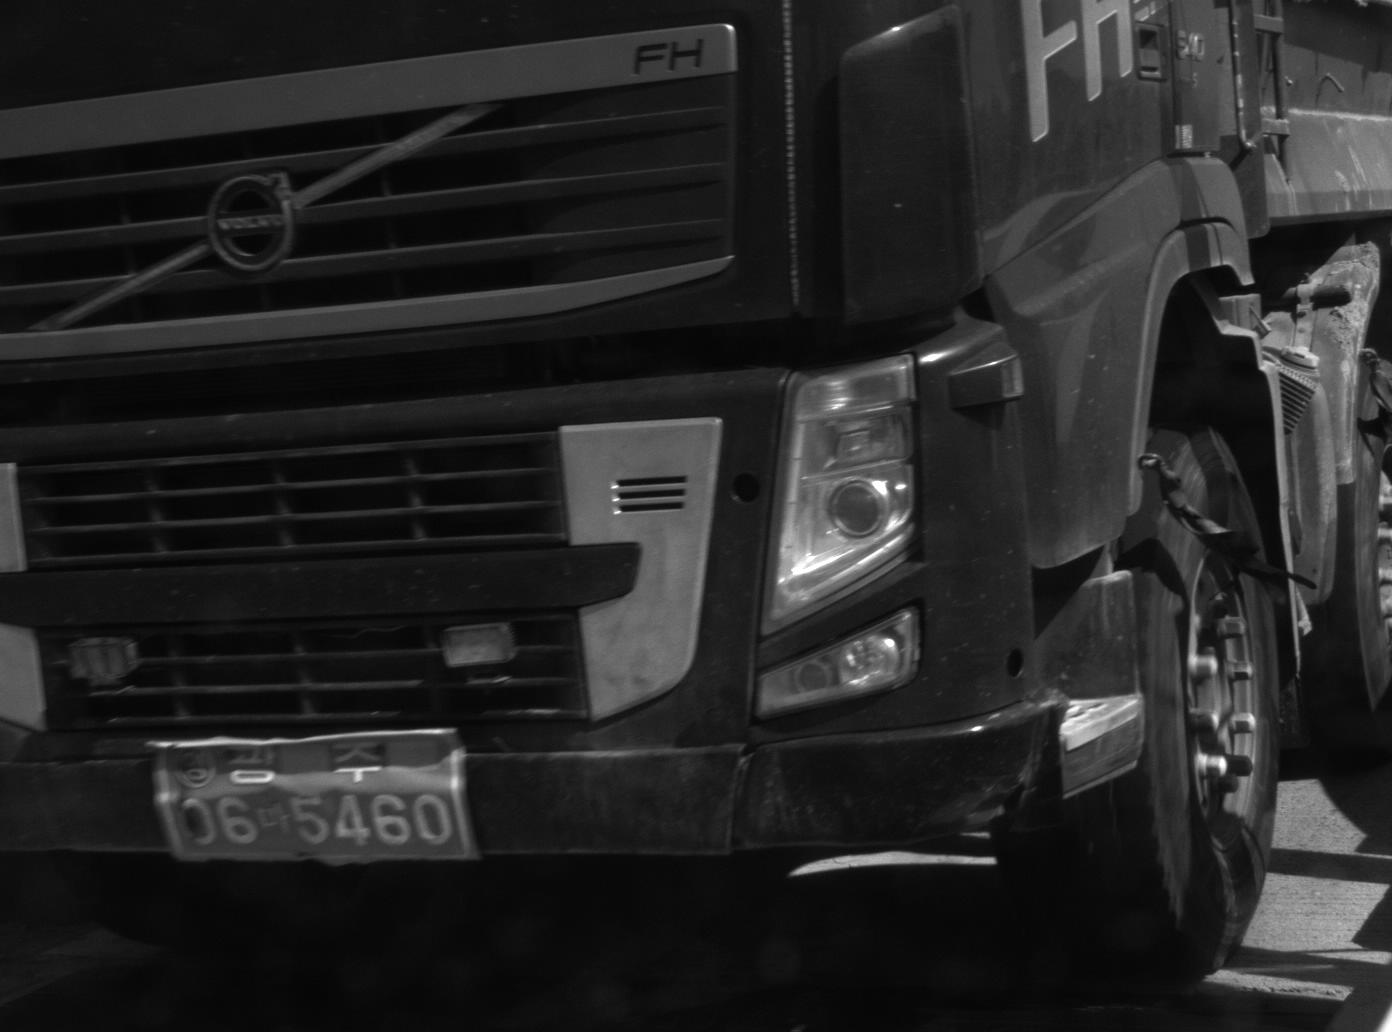car: (1, 1, 1389, 984)
plate: (147, 724, 476, 865)
